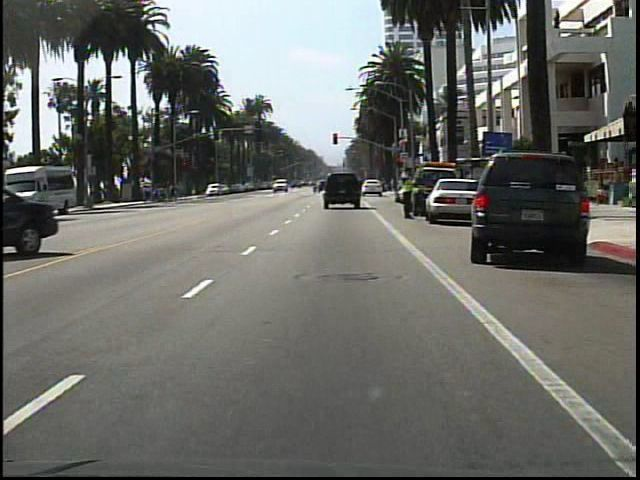person: (397, 165, 418, 219)
